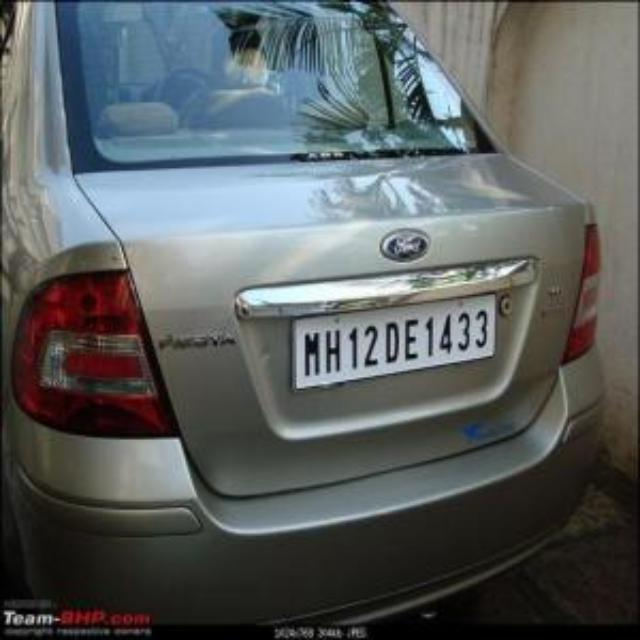License Plate: (294, 293, 496, 390)
